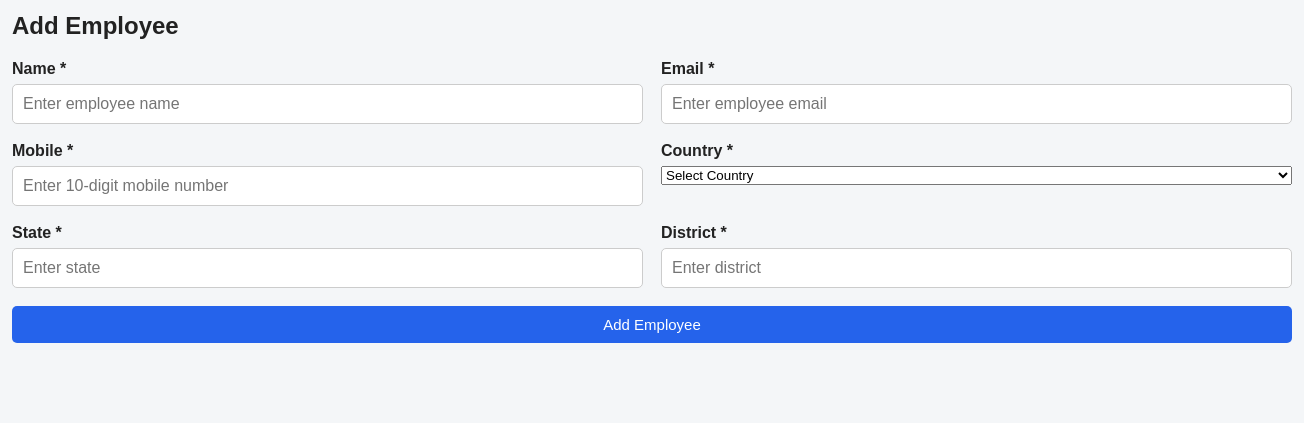
Test case: EmployeeForm › shows error when name contains fewer than 2 characters
Type "A" into the field with placeholder "Enter employee name". click: (328, 104)
box: [12,84,643,124]
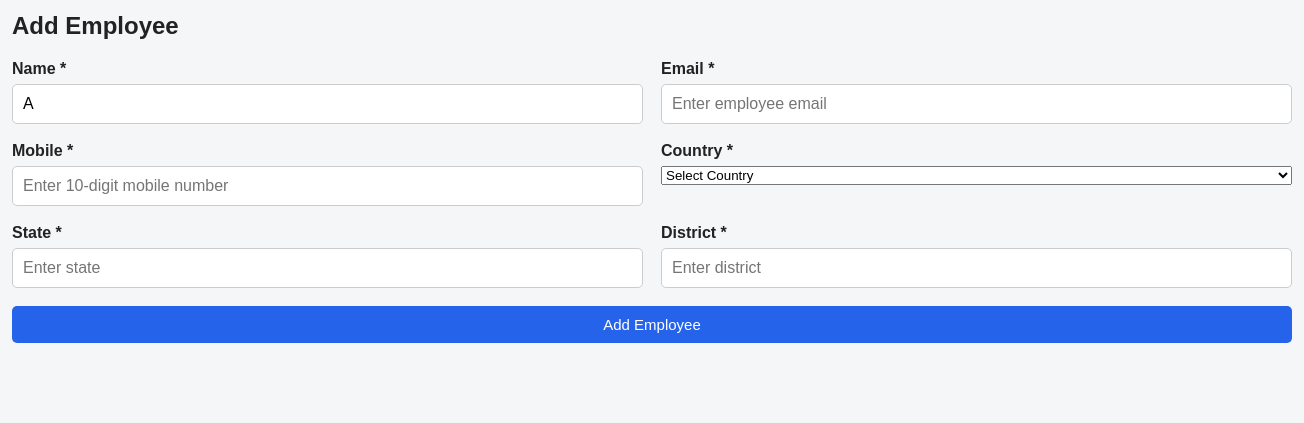
Click the button "Add Employee". click: (652, 324)
box: [12,306,1292,343]
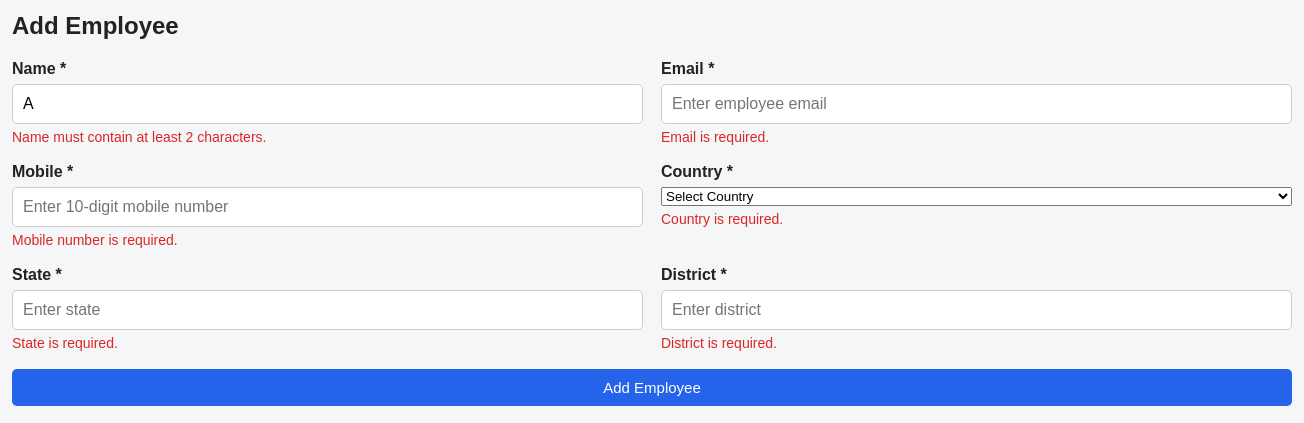
Now the text "Name must contain at least 2 characters." is shown, box [12,129,266,145]
